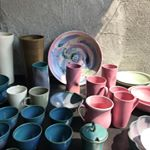cups: (10, 120, 43, 150), (44, 122, 74, 150), (23, 86, 51, 108), (85, 74, 110, 98)
